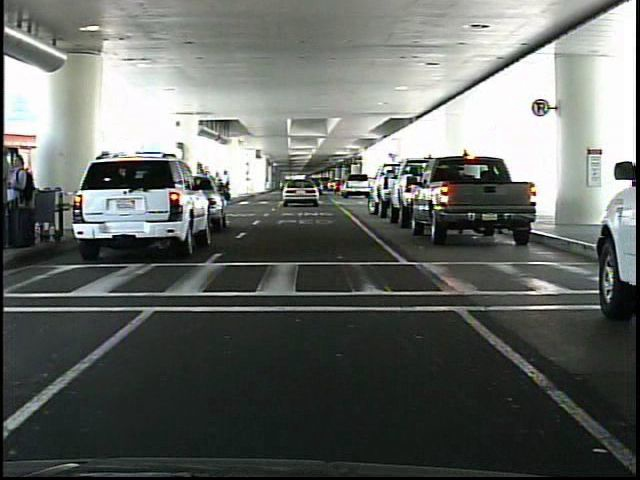person: (9, 154, 36, 252), (0, 148, 19, 246)
